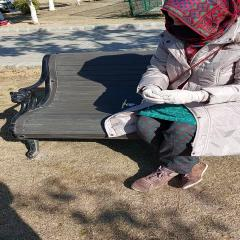gloved: (158, 90, 203, 104), (144, 86, 166, 105)
